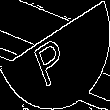P_NW: (34, 24, 76, 86)
